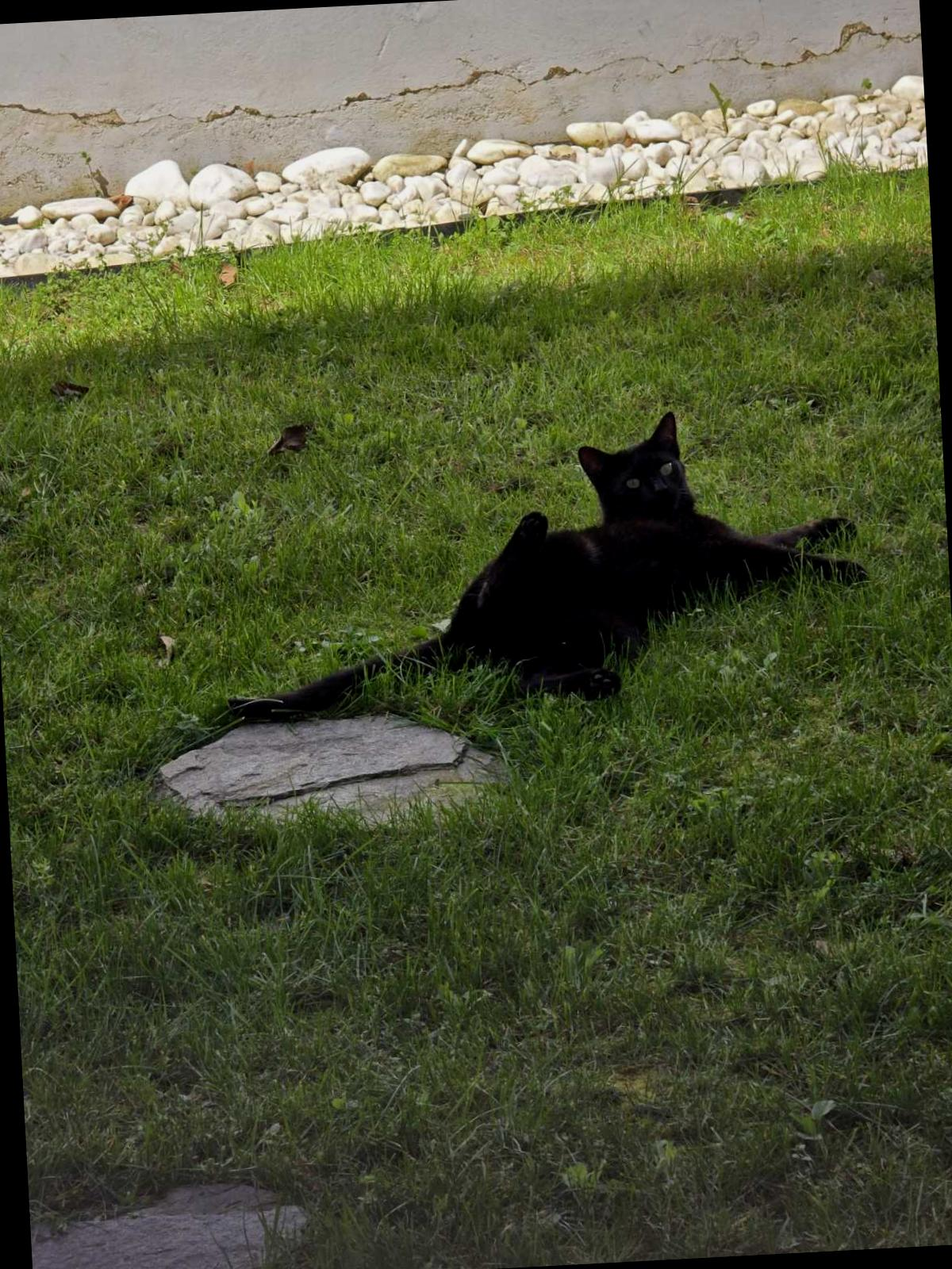macka: (188, 399, 875, 734)
